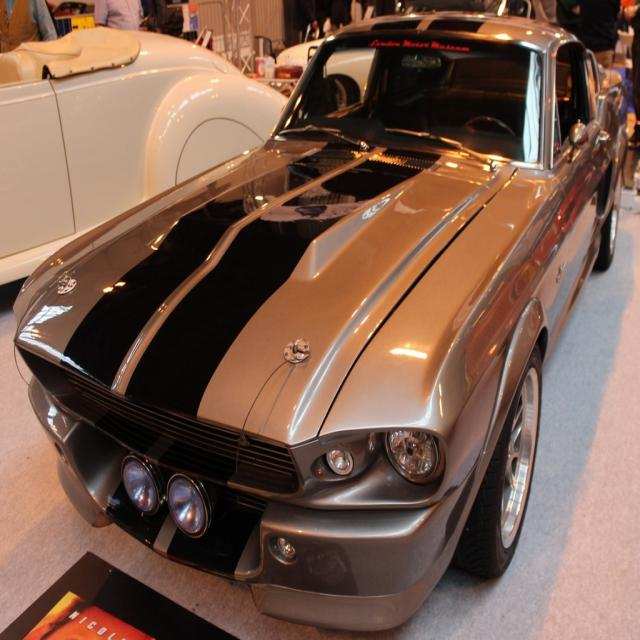car: (20, 27, 603, 614)
